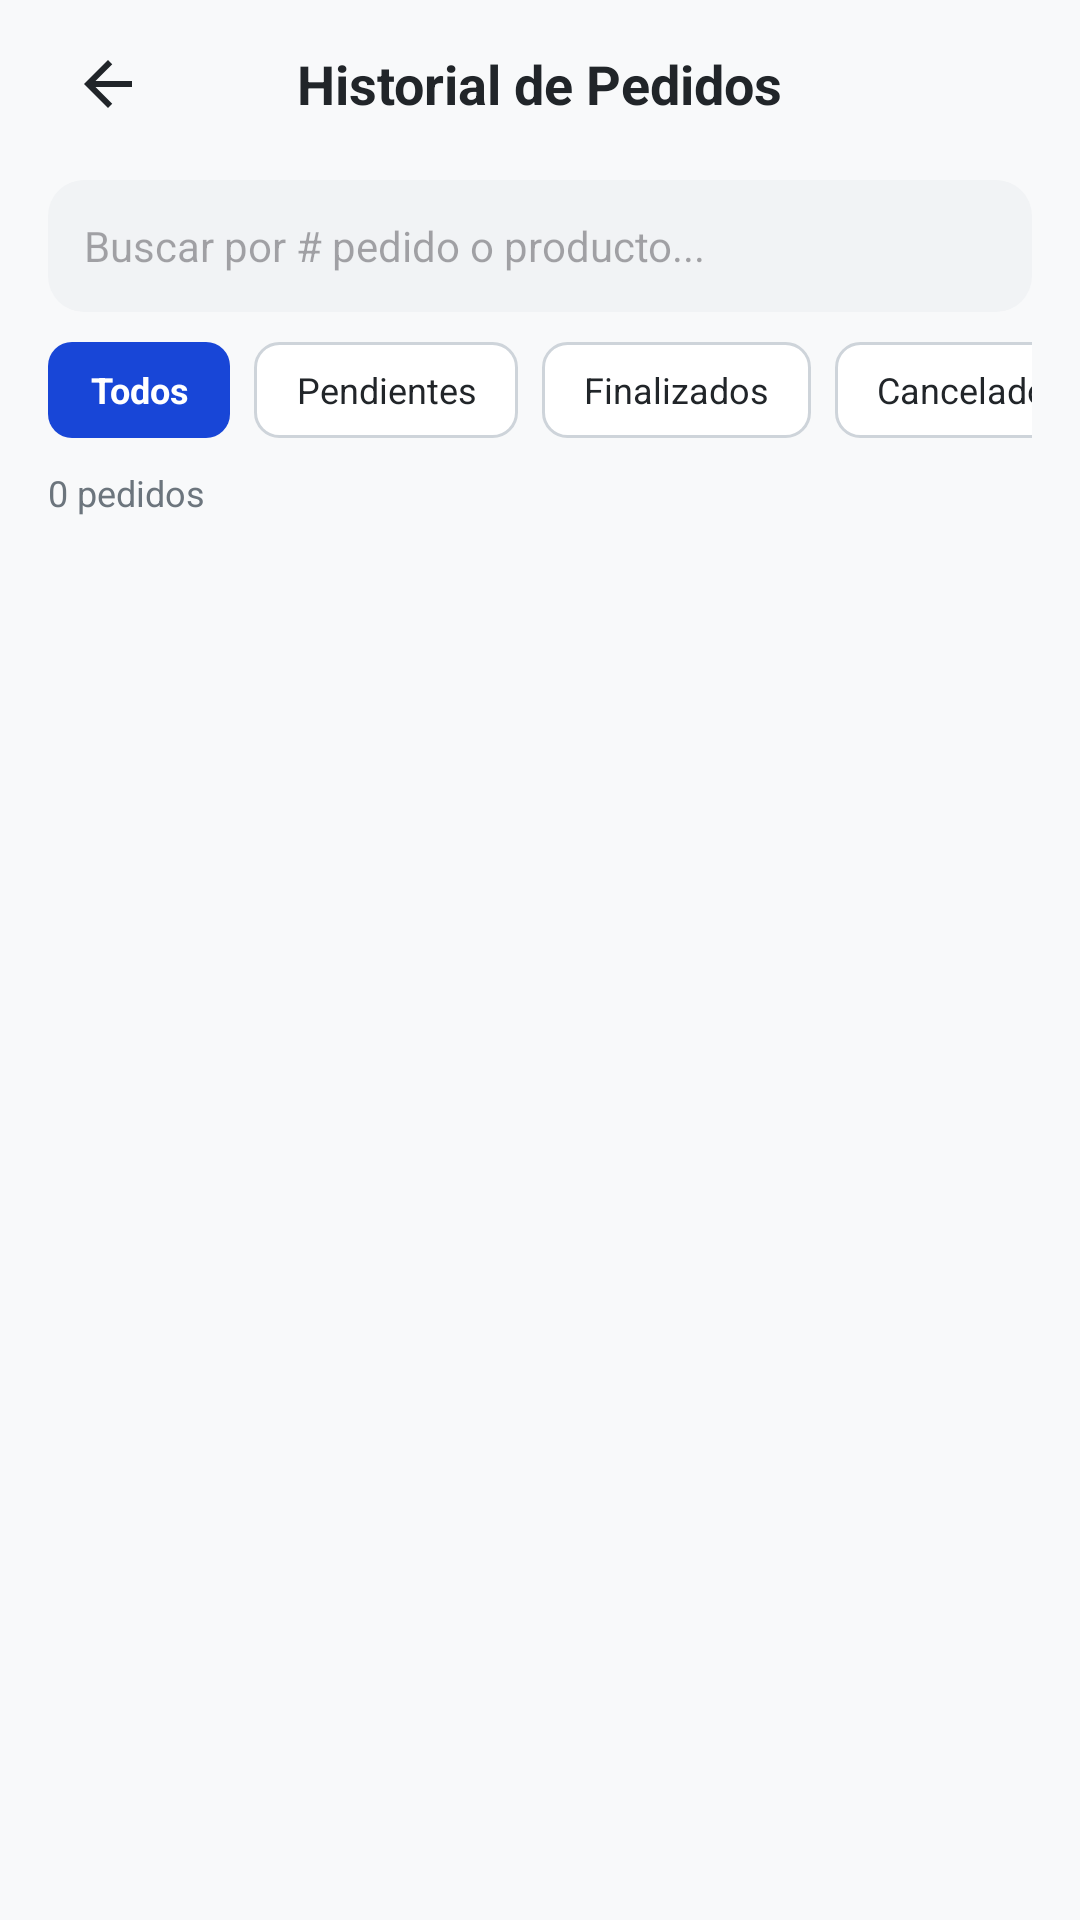

Screen size 1080px x 1920px. Icon name, then its box in pixels as (x1, y1, x2, y2):
Back: (84, 60, 132, 108)
